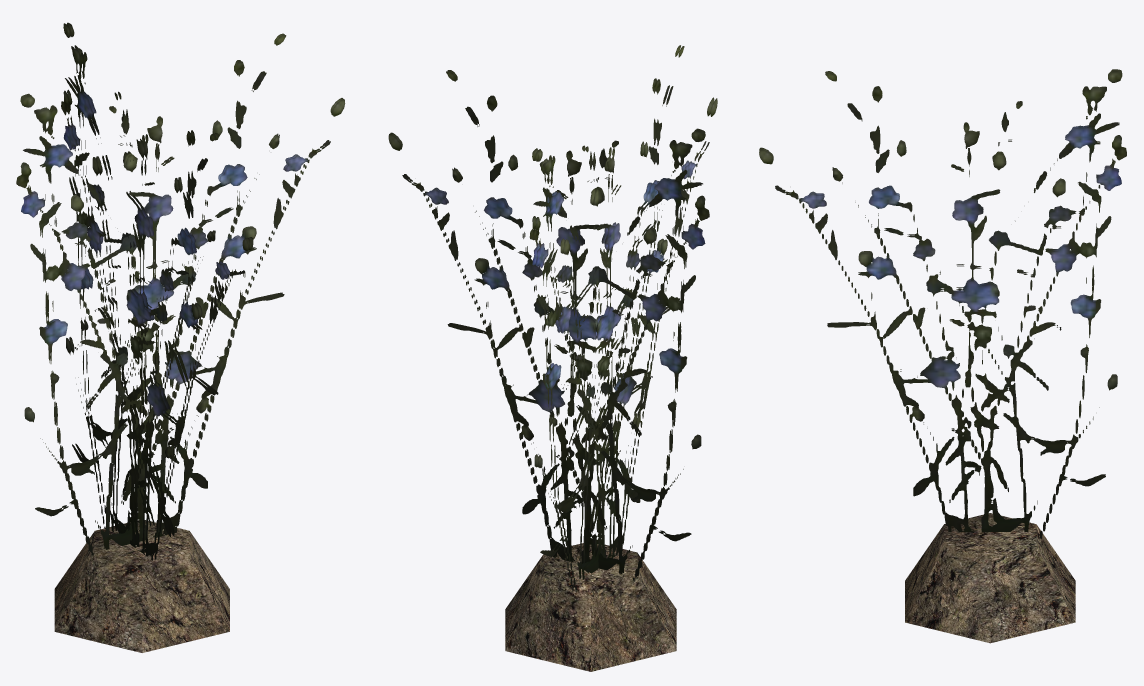
Rendered from GS_NATURE_FLAX_01_GALI.glb.
3 renders of one model, left to right at view 1: azimuth 30°, elevation 25°; view 2: azimuth 150°, elevation 25°; view 3: azimuth 270°, elevation 25°, orthographic. The views are drawn at different scales.
Visible parts, largest first — view 1: Mesh; view 2: Mesh; view 3: Mesh.
Boxes of the visible parts, x1,y1,x2,y2 form: Mesh: (16, 22, 345, 652); Mesh: (388, 45, 717, 671); Mesh: (759, 69, 1126, 643).
Size of the model in its own units: 1.41 by 2.17 by 1.41.
Materials: 2 (2 with a texture image).
